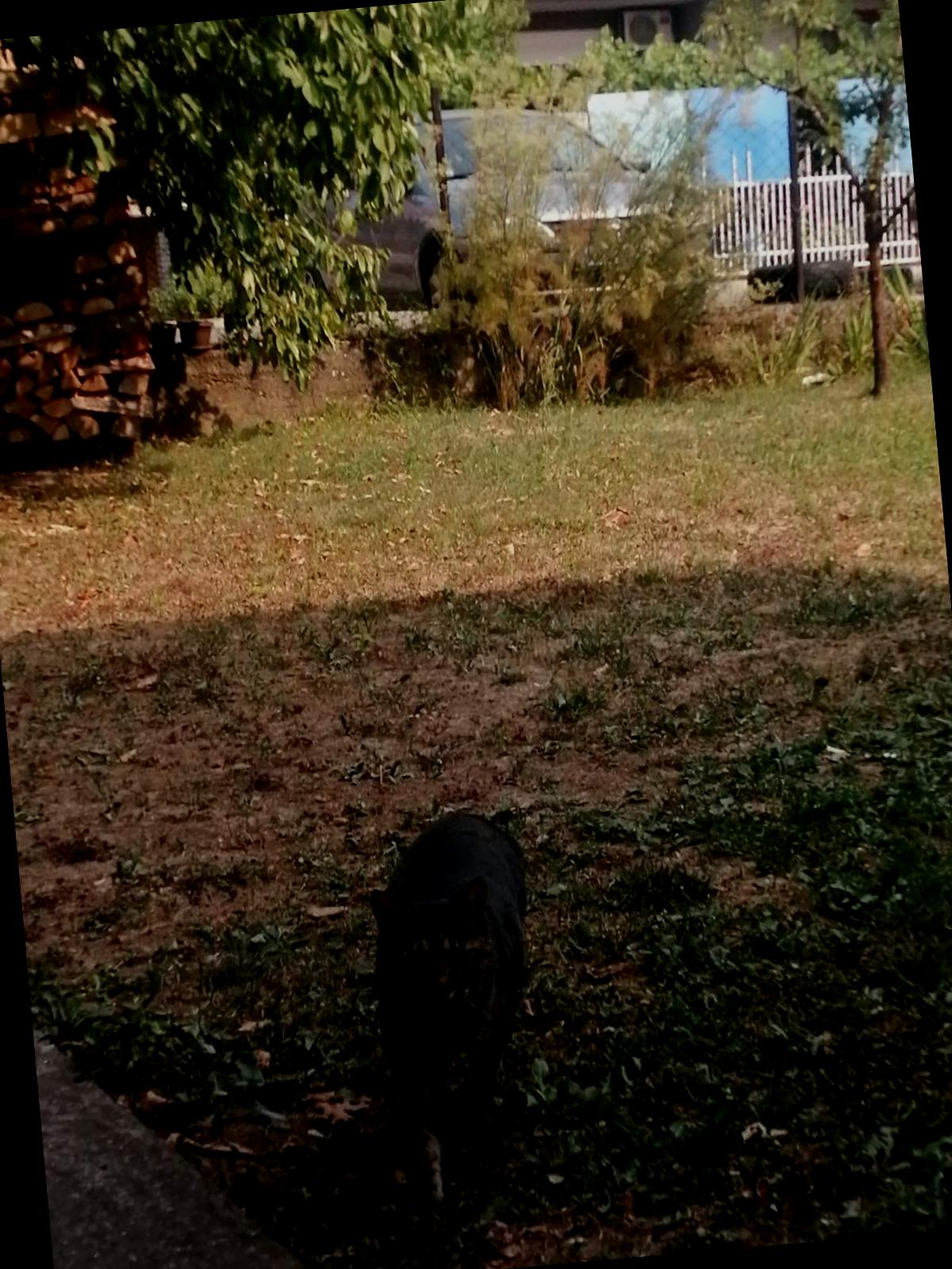macka: (356, 803, 555, 1213)
